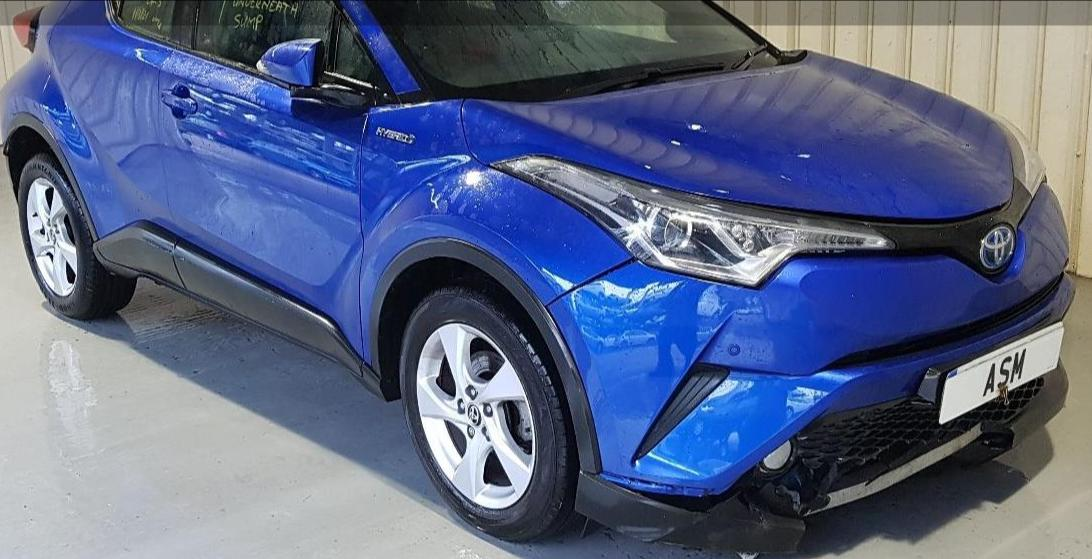Broken part: (574, 378, 1043, 557)
